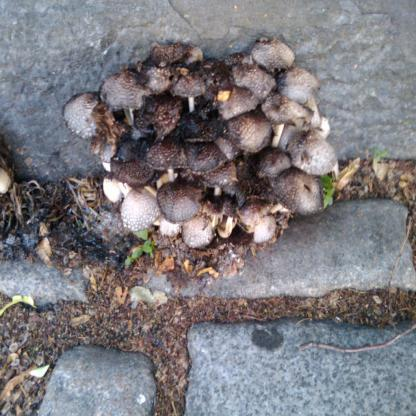Mushroom: (63, 37, 336, 247)
